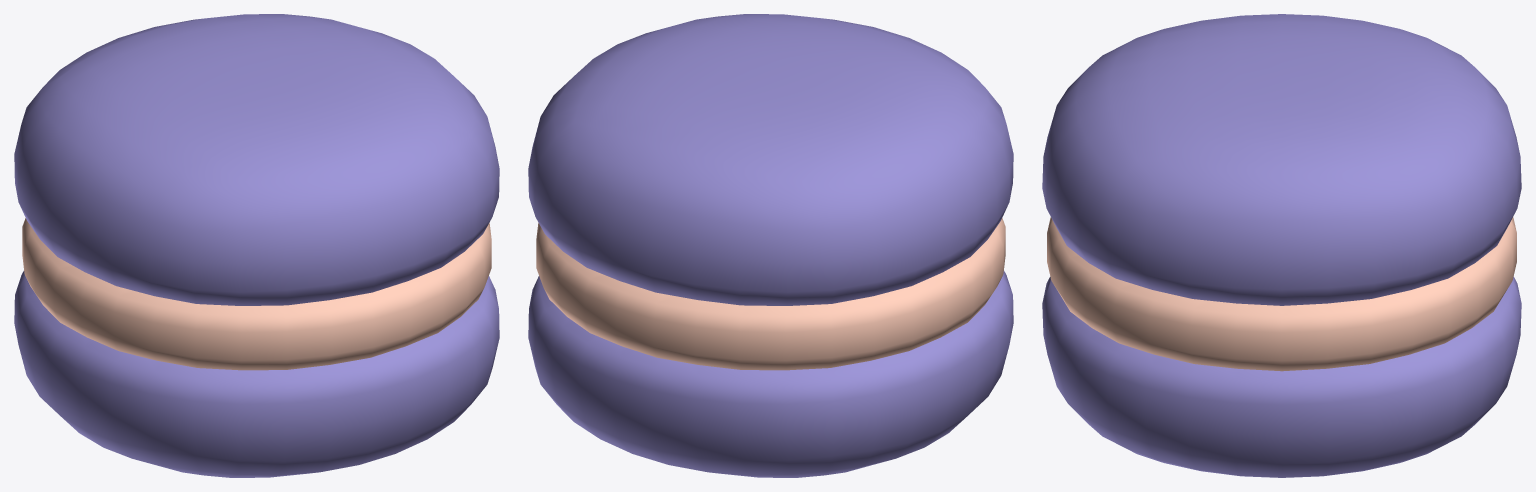
Rendered from Macaroon_02.fbx.
3 renders of one model, left to right at view 1: azimuth 30°, elevation 25°; view 2: azimuth 150°, elevation 25°; view 3: azimuth 270°, elevation 25°, orthographic.
Visible parts, largest first — view 1: Macaroon_02_LOD0; view 2: Macaroon_02_LOD0; view 3: Macaroon_02_LOD0.
Part boxes in pixels (bbox=[...]): Macaroon_02_LOD0: bbox=[14, 14, 499, 477]; Macaroon_02_LOD0: bbox=[528, 14, 1013, 477]; Macaroon_02_LOD0: bbox=[1042, 14, 1521, 477].
Size of what is drawn, in the model's own units: 348 by 276 by 348.
